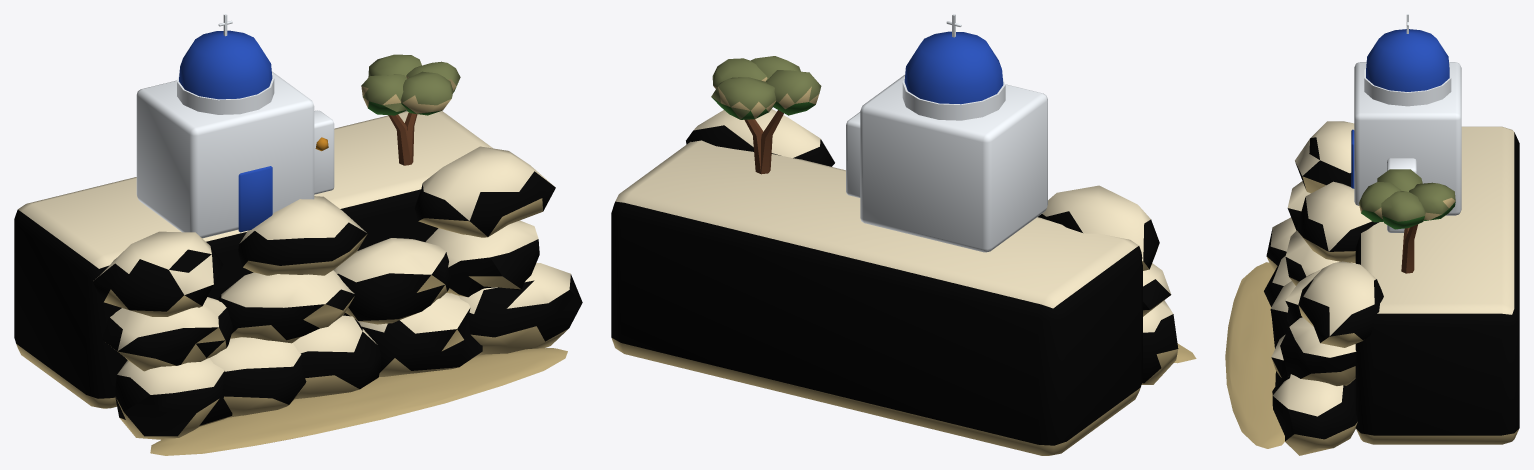
Rendered from GreekCliffB.fbx.
3 renders of one model, left to right at view 1: azimuth 30°, elevation 25°; view 2: azimuth 150°, elevation 25°; view 3: azimuth 270°, elevation 25°, orthographic. The views are drawn at different scales.
Parts seen in each view (by area): view 1: GreekCliffB; view 2: GreekCliffB; view 3: GreekCliffB.
Boxes of the visible parts, bbox=[...] form: GreekCliffB: bbox=[14, 14, 582, 455]; GreekCliffB: bbox=[611, 14, 1196, 455]; GreekCliffB: bbox=[1225, 14, 1519, 455].
Size of the model in its own units: 8.15 by 6.11 by 4.94.
Materials: 1 (1 with a texture image).
